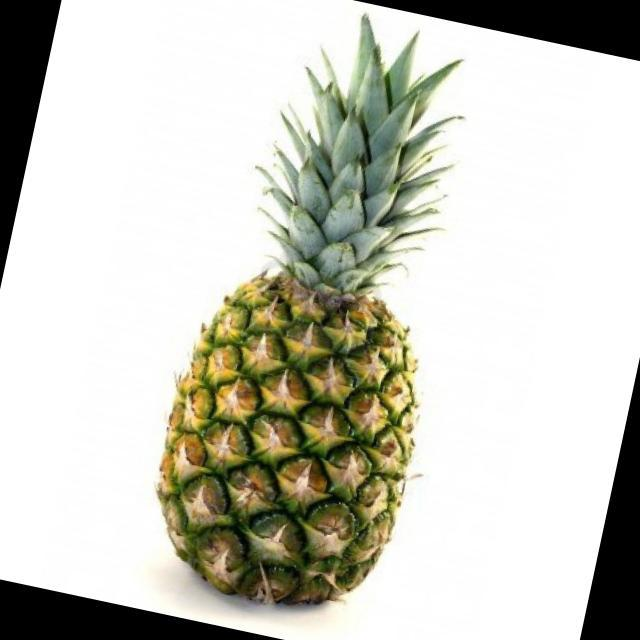PINEAPLE: (134, 13, 491, 630)
